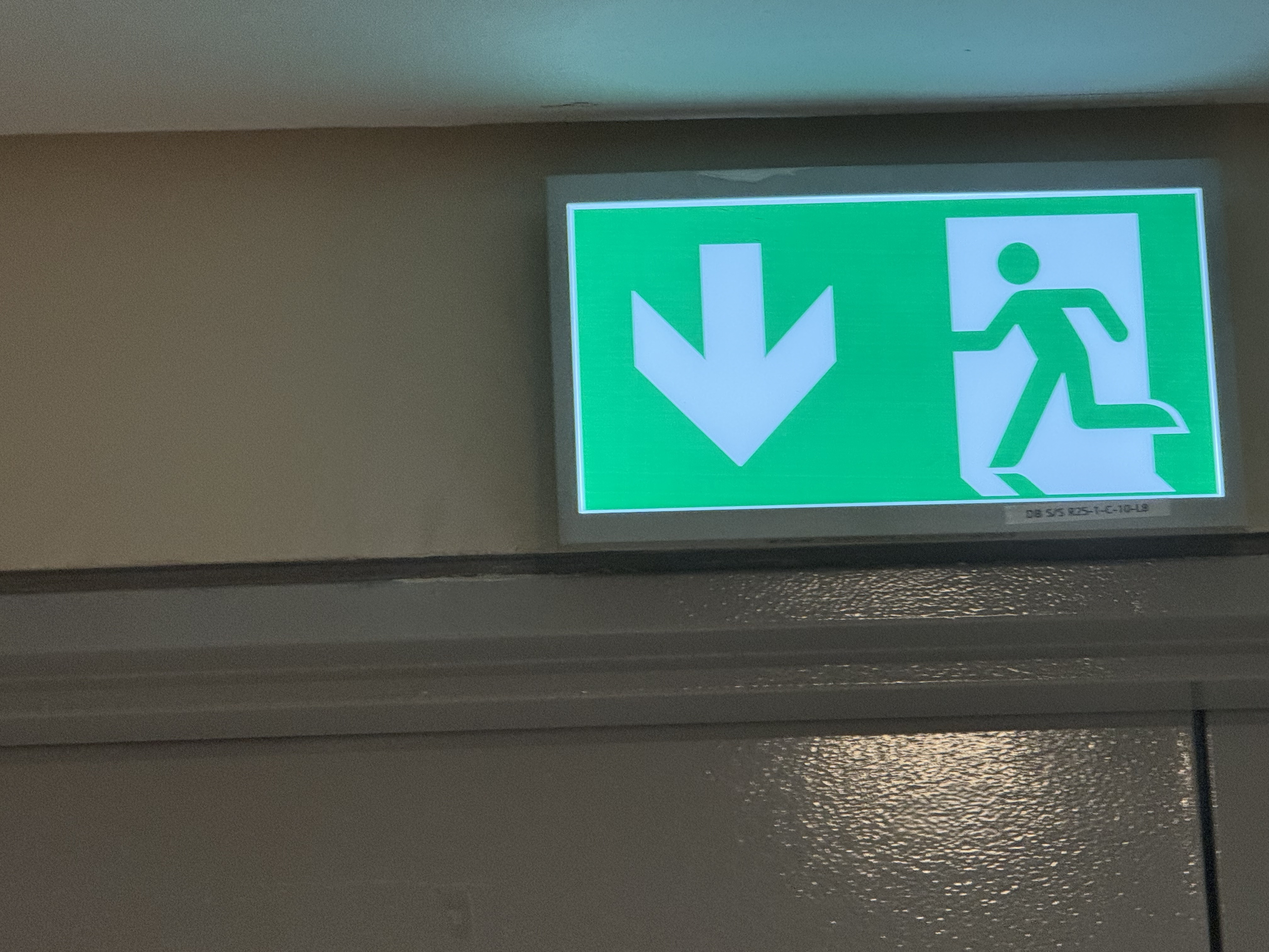emergency_exit: (545, 167, 1246, 547)
